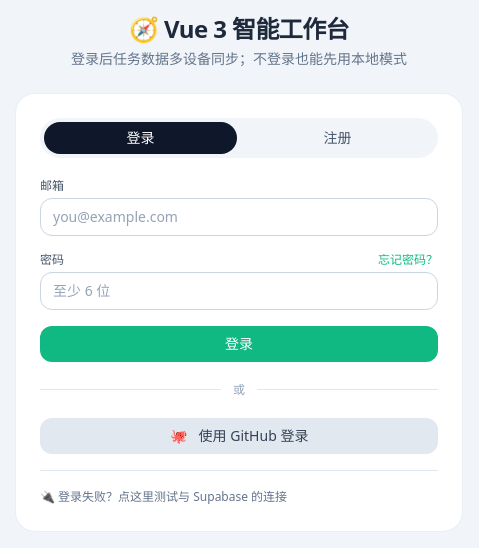
Test: Login 页 › 忘记密码 › 邮箱不合法：本地校验拦住，不发请求
Click the button with test id "login-forgot-password": (408, 260) [378,252,438,268]
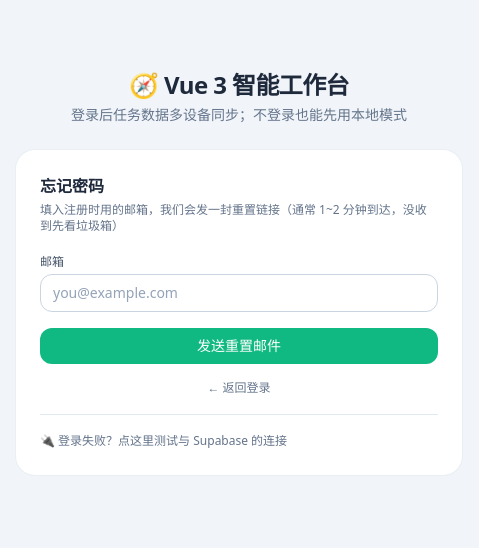
In the field with placeholder "you@example.com": (239, 292) [40,274,438,312], type "not-an-email"
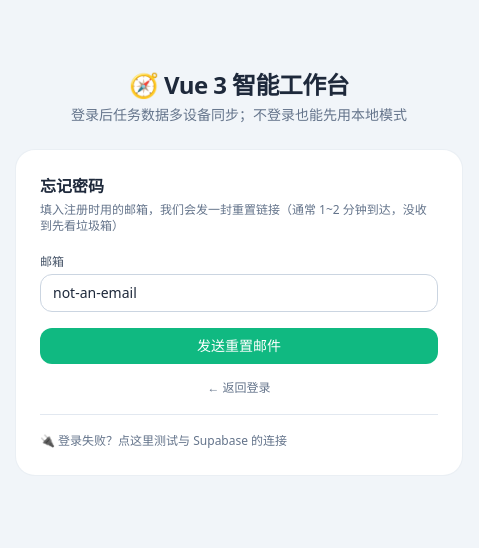
Submit the form, box [40,254,438,398]
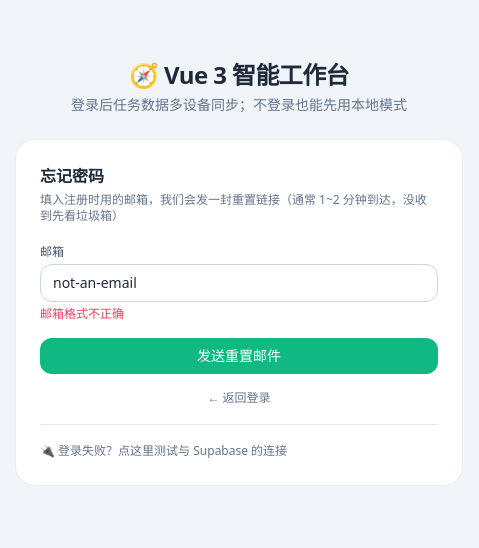
Check: the text with test id "login-error-email" reads "邮箱格式不正确", box [40,304,124,322]
